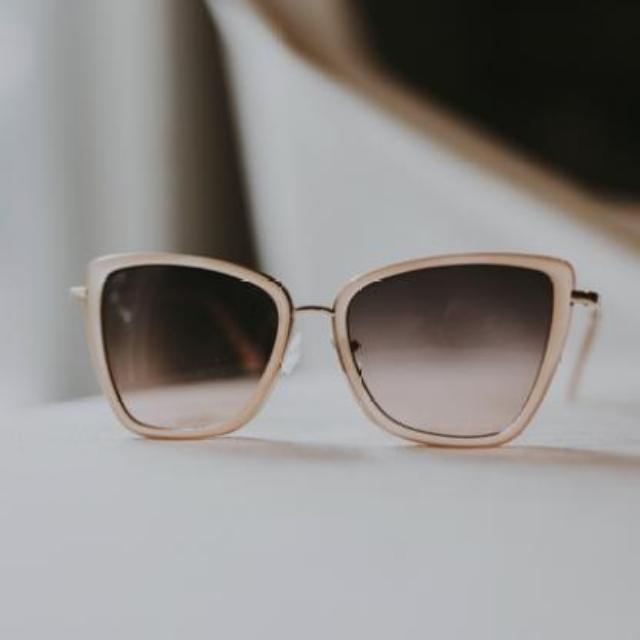sunglasses: (68, 248, 600, 444)
